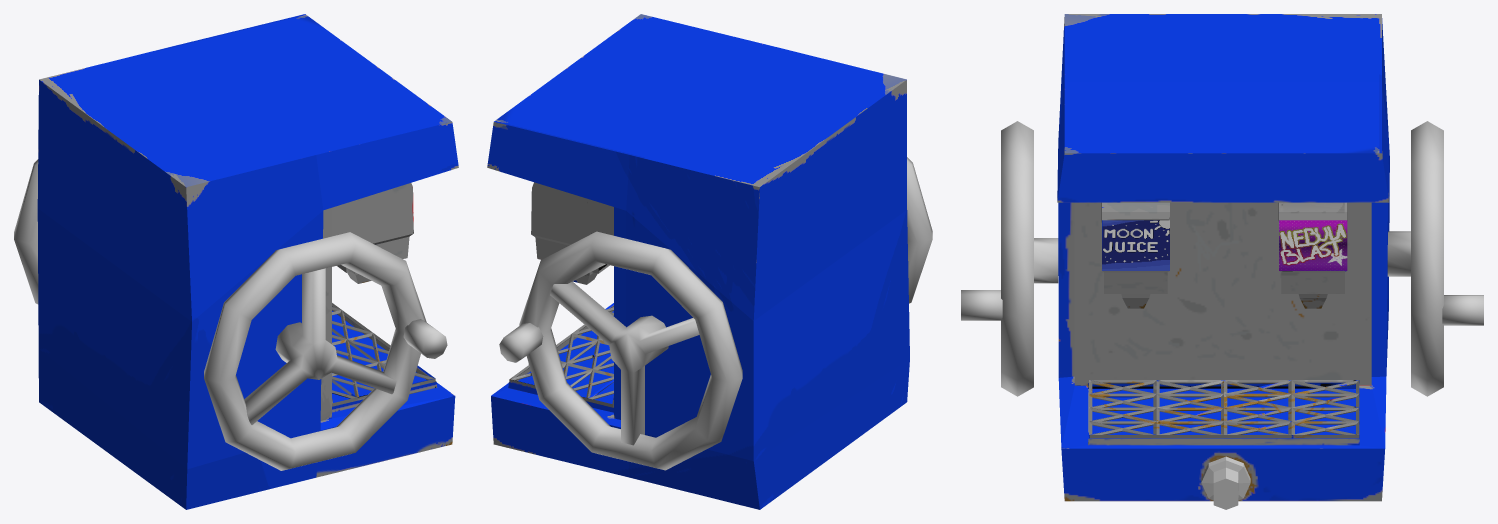
Rendered from SODA_machine.fbx.
The picture shows the model from 3 angles, left to right: view 1: azimuth 30°, elevation 25°; view 2: azimuth 150°, elevation 25°; view 3: azimuth 270°, elevation 25°; orthographic projection. The views are drawn at different scales.
Parts seen in each view (by area): view 1: SodaMachine, Wheel_R, Wheel_L; view 2: SodaMachine, Wheel_L, Wheel_R; view 3: SodaMachine, Wheel_R, Wheel_L, Button.
Boxes of the visible parts, x1=… form: SodaMachine: x1=37, y1=14, x2=458, y2=509; Wheel_R: x1=204, y1=232, x2=447, y2=470; Wheel_L: x1=14, y1=159, x2=38, y2=304; SodaMachine: x1=487, y1=14, x2=909, y2=509; Wheel_L: x1=499, y1=231, x2=742, y2=470; Wheel_R: x1=907, y1=157, x2=932, y2=303; SodaMachine: x1=1057, y1=14, x2=1389, y2=501; Wheel_R: x1=961, y1=121, x2=1058, y2=396; Wheel_L: x1=1387, y1=121, x2=1483, y2=396; Button: x1=1201, y1=456, x2=1250, y2=509.
Size of the model in its own units: 42.85 by 43.86 by 59.64.
